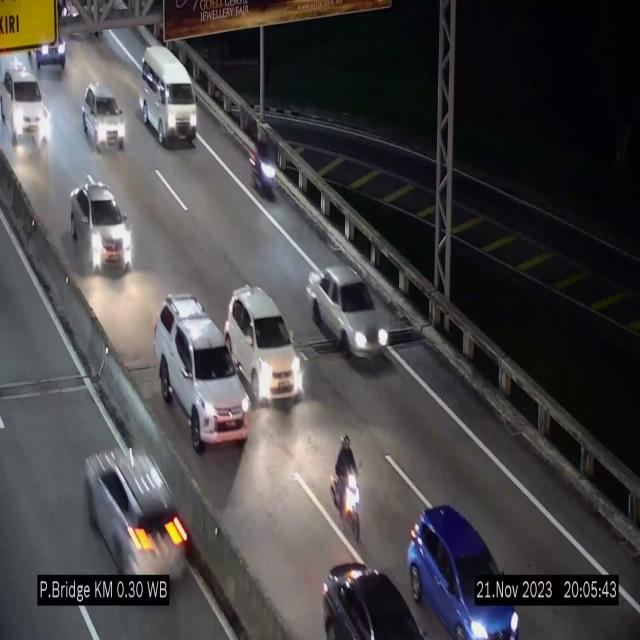Car: (81, 403, 201, 593), (408, 505, 520, 640), (156, 298, 248, 450), (308, 536, 422, 640), (226, 287, 304, 401), (306, 265, 388, 360), (138, 46, 197, 147), (70, 179, 134, 272), (0, 59, 48, 151), (82, 85, 126, 151)
Motorcycle: (330, 431, 363, 545), (249, 132, 278, 208)
